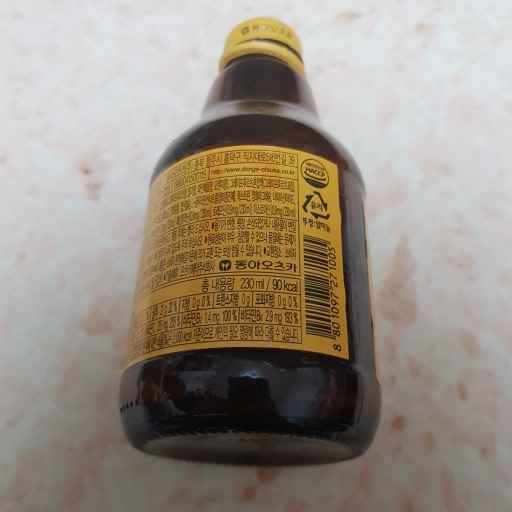Glass_3: (122, 18, 383, 463)
